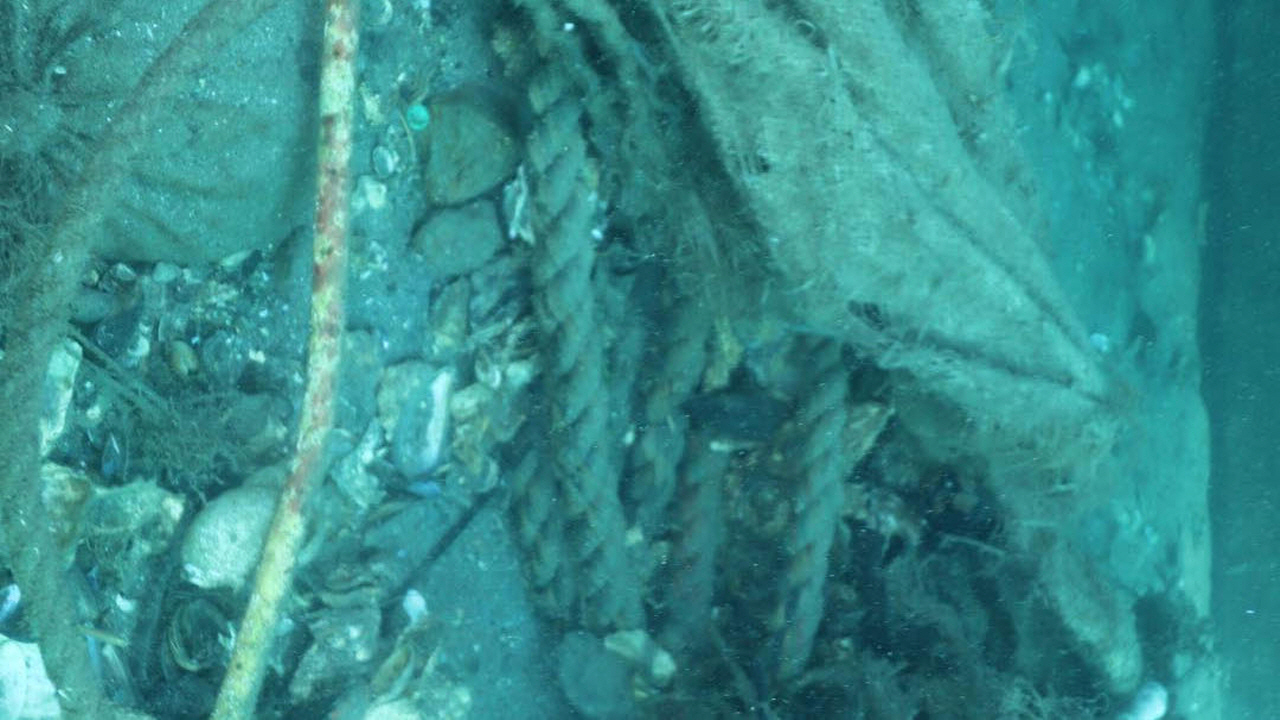bundle of ropes: (0, 0, 849, 720)
